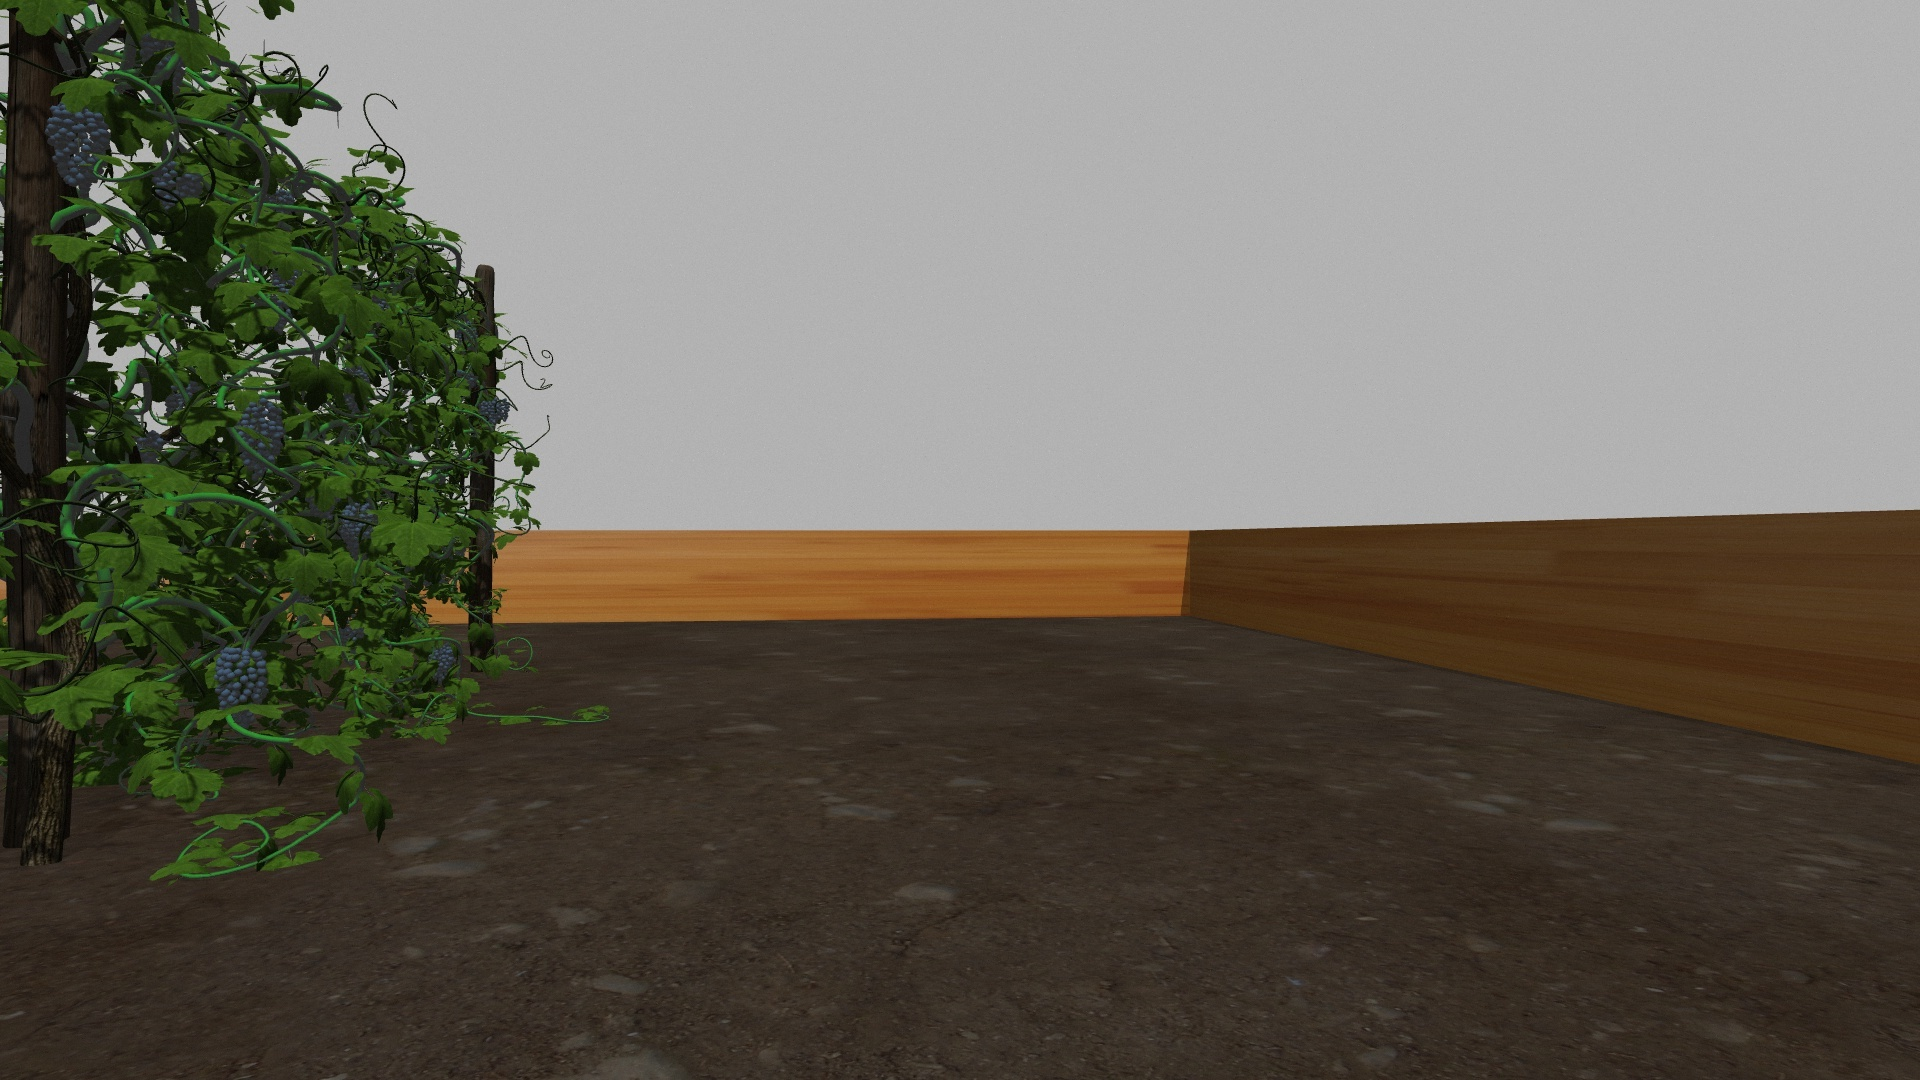grape: (45, 98, 107, 190), (208, 644, 266, 713), (237, 404, 285, 473), (153, 157, 204, 212), (338, 502, 376, 560), (429, 645, 456, 684), (495, 400, 512, 425), (479, 400, 495, 425)
